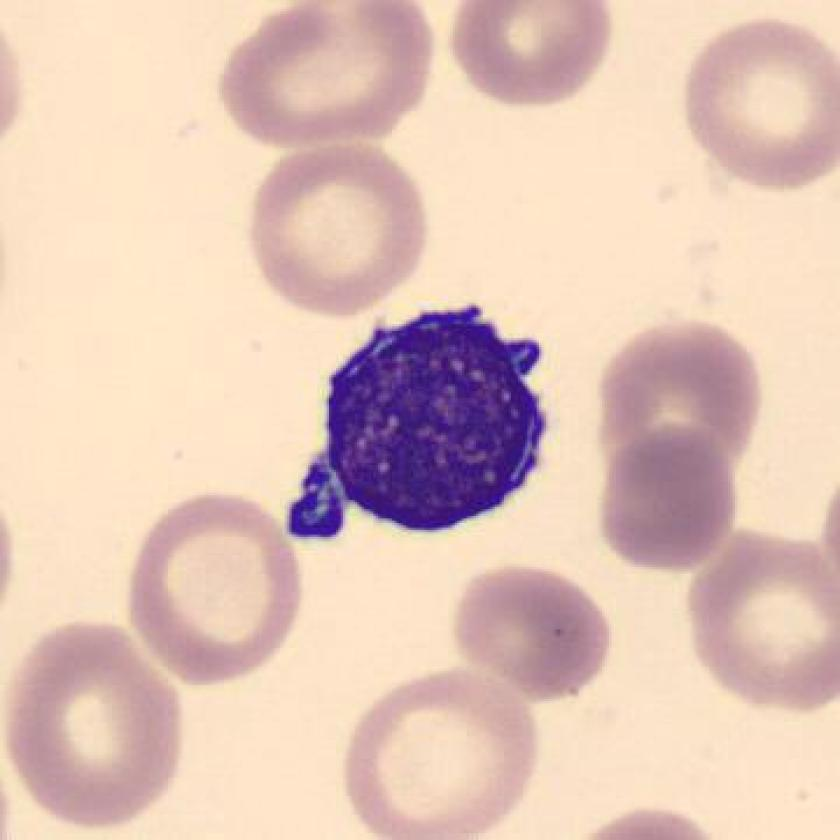lymphocyte: (267, 293, 575, 566)
